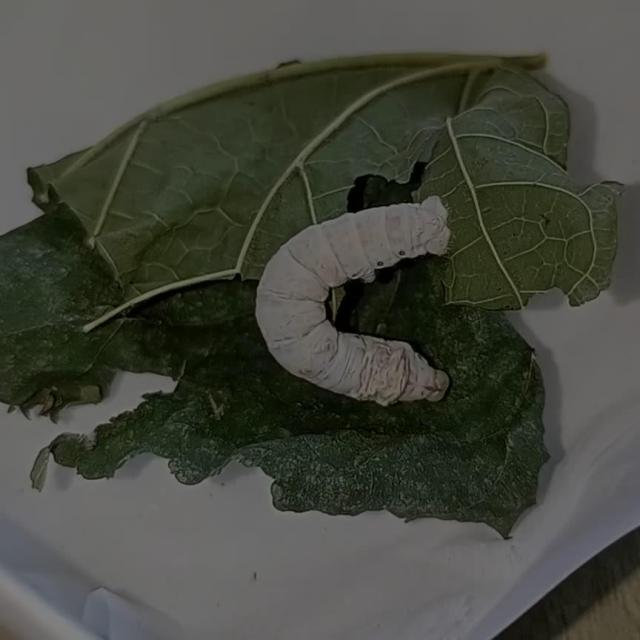Healthy: (246, 174, 481, 420)
